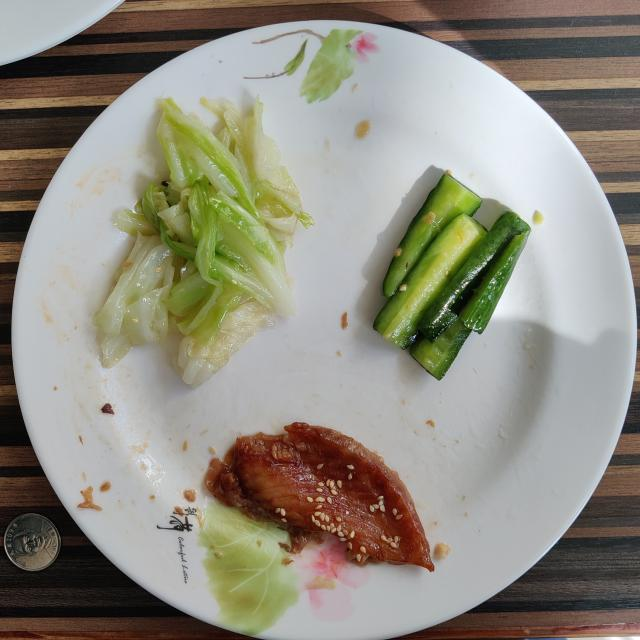Kabayaki sea bream fillet: (205, 422, 434, 571)
cabbage: (94, 96, 312, 386)
coin: (4, 514, 61, 571)
cucumber: (374, 174, 530, 379)
